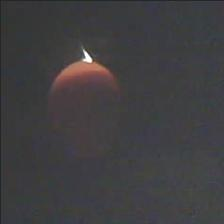fertile: (42, 57, 127, 159)
